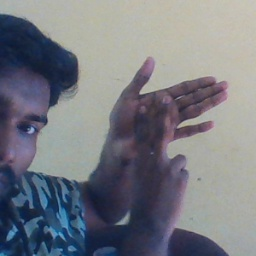N: (100, 55, 230, 198)
